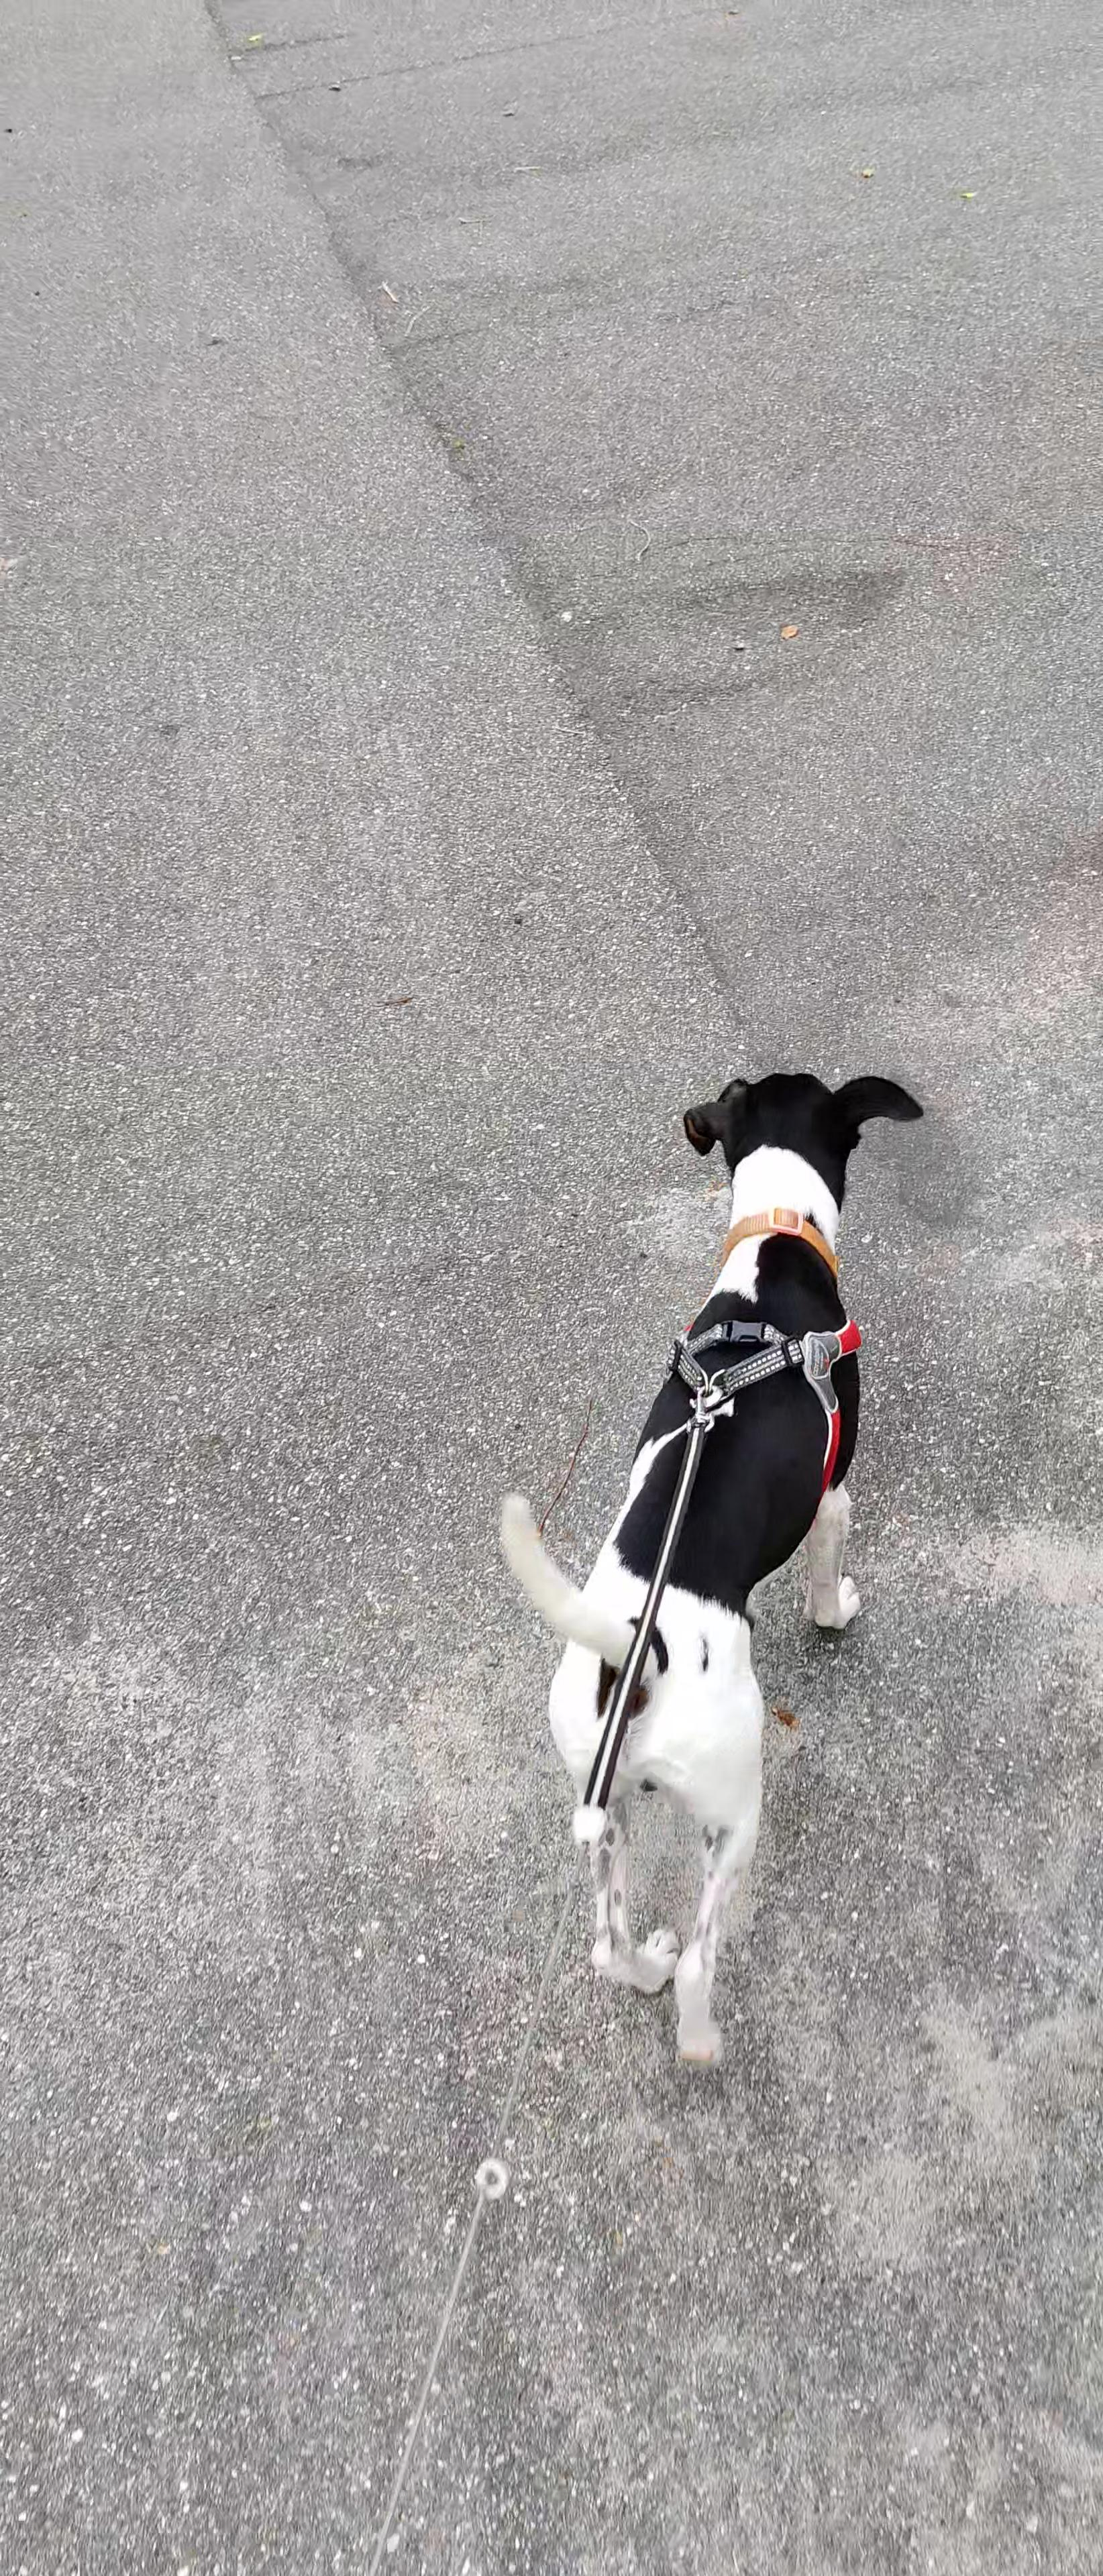Dog: (495, 1065, 927, 2063)
